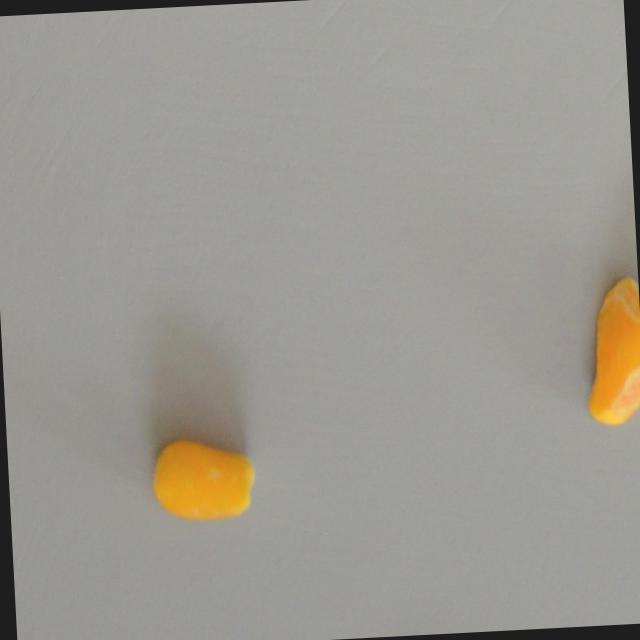dañado: (145, 431, 263, 526), (576, 269, 640, 431)
